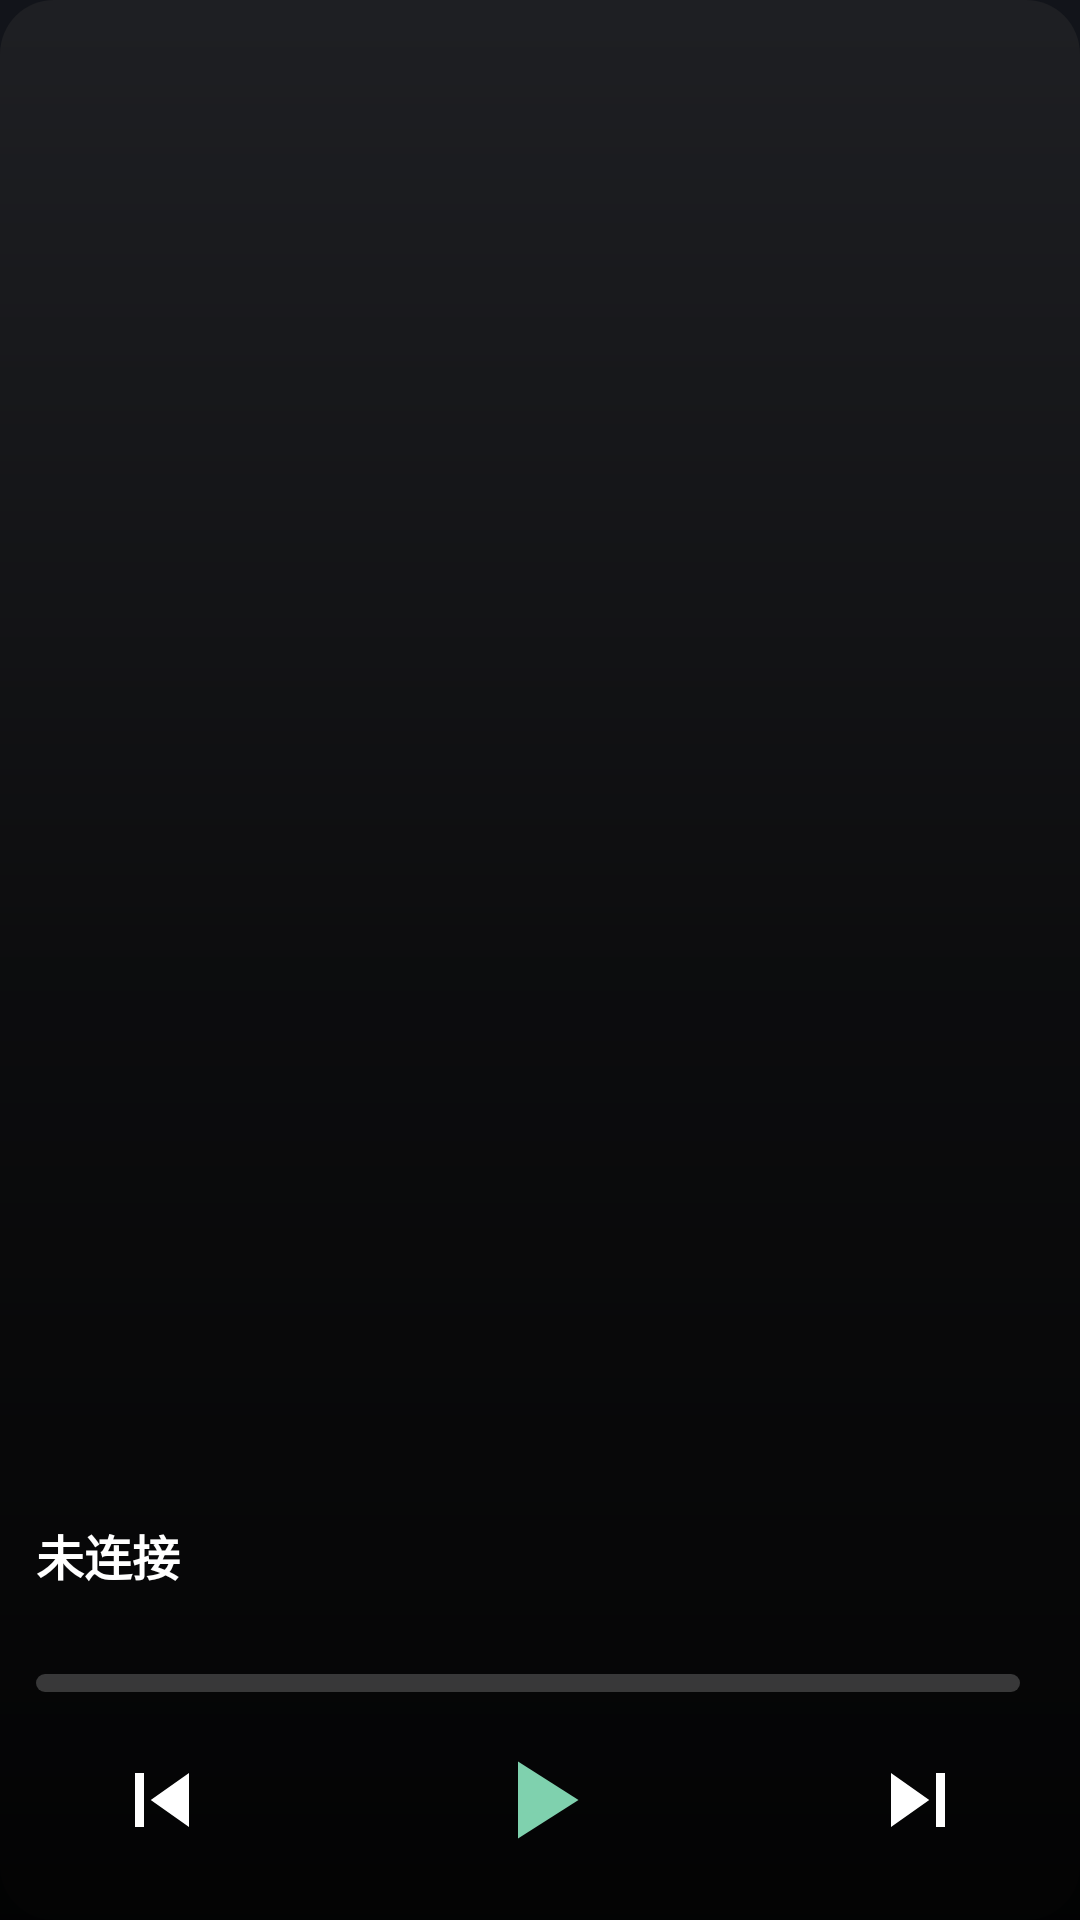

Icons on this 1080px x 1920px Android screen, each with its box as (x1, y1, x2, y2):
上一首: (135, 1773, 189, 1827)
下一首: (891, 1773, 945, 1827)
播放或暂停: (518, 1761, 578, 1839)
